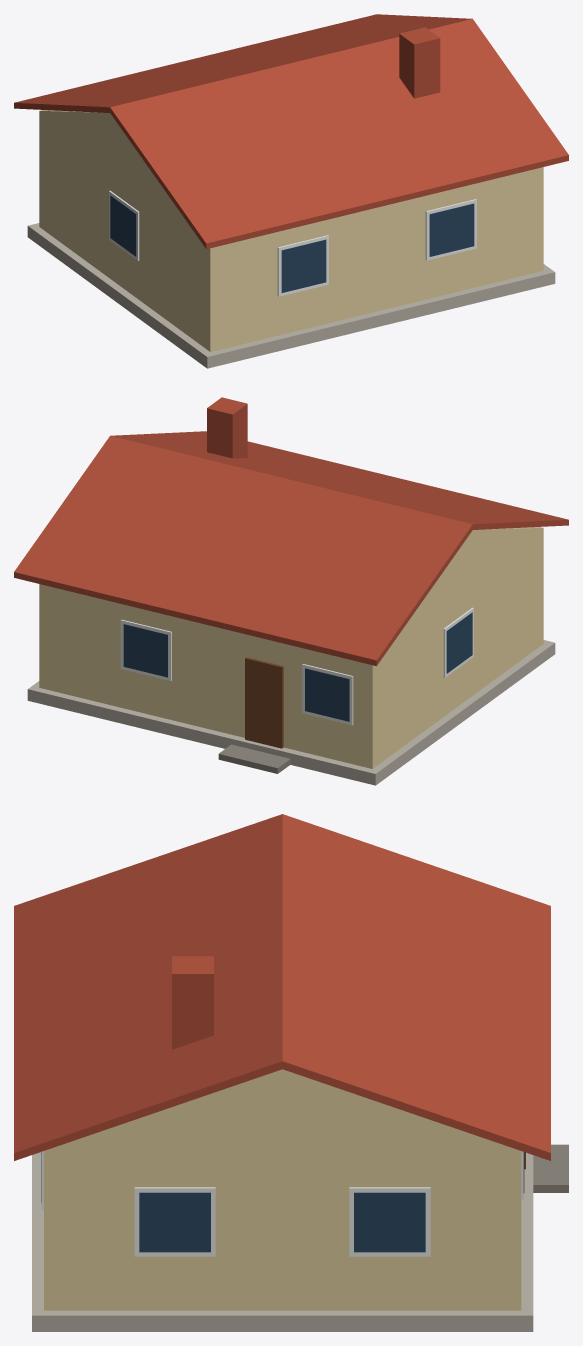
The model's file is casa_suburbio.glb.
The picture shows the model from 3 angles, top to bottom: view 1: azimuth 30°, elevation 25°; view 2: azimuth 150°, elevation 25°; view 3: azimuth 270°, elevation 25°; orthographic projection. The views are drawn at different scales.
Parts seen in each view (by area): view 1: casa_suburbio_corpo; view 2: casa_suburbio_corpo; view 3: casa_suburbio_corpo.
Boxes of the visible parts, box(x1,y1,x2,y2) form: casa_suburbio_corpo: box(14, 14, 568, 368); casa_suburbio_corpo: box(14, 397, 568, 785); casa_suburbio_corpo: box(14, 814, 568, 1331).
Bounding box in the file's own units: 9.8 × 5.8 × 9.3.
